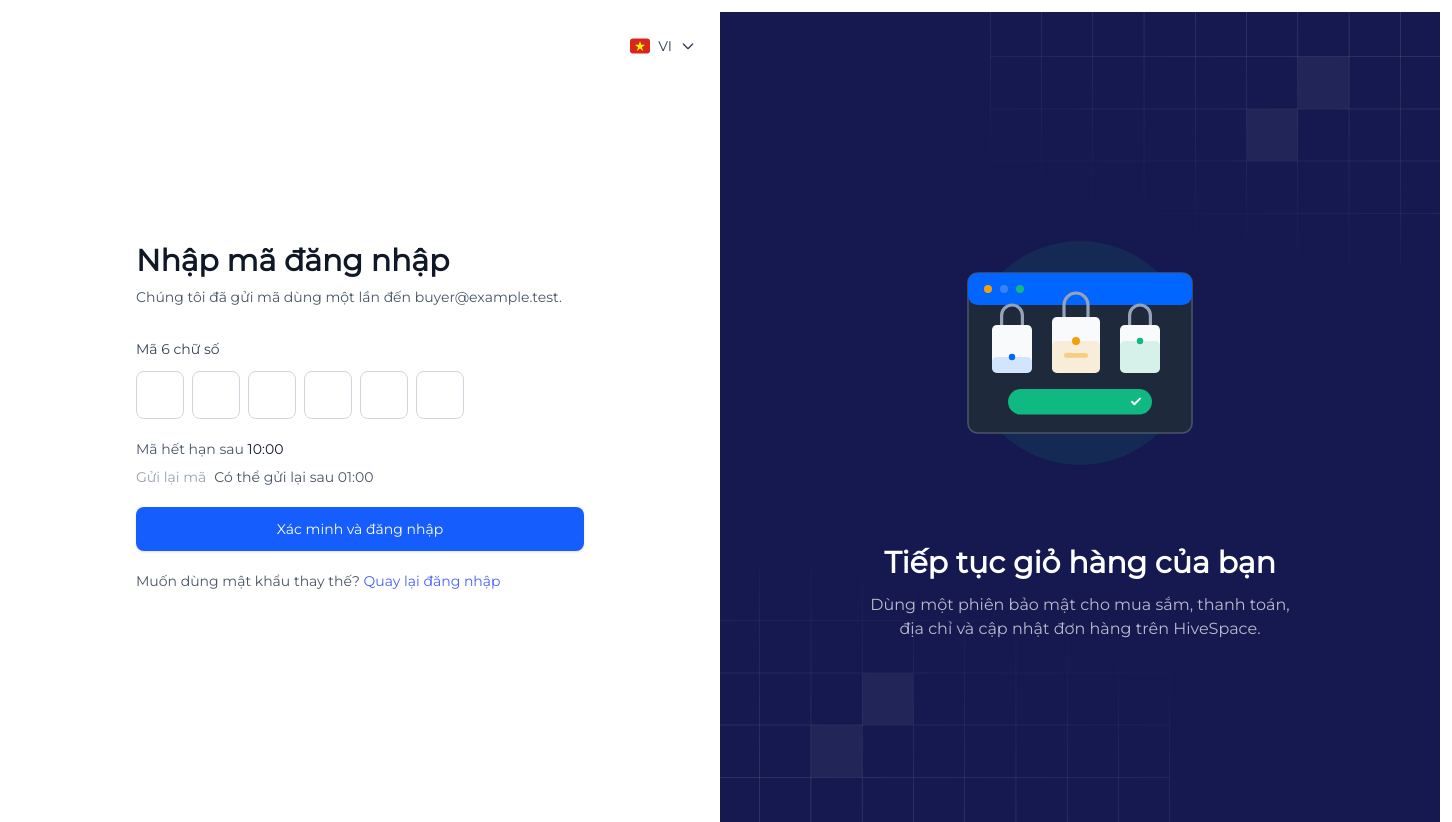
Scenario: OtpCodeEntryPage (buyer) › shows invalid code feedback and does not redirect when verification fails
The image size is (1452, 822).
In the field named "Chữ số 1": (160, 395) [136,371,184,419], type "1"
In the field named "Chữ số 2": (216, 395) [192,371,240,419], type "2"
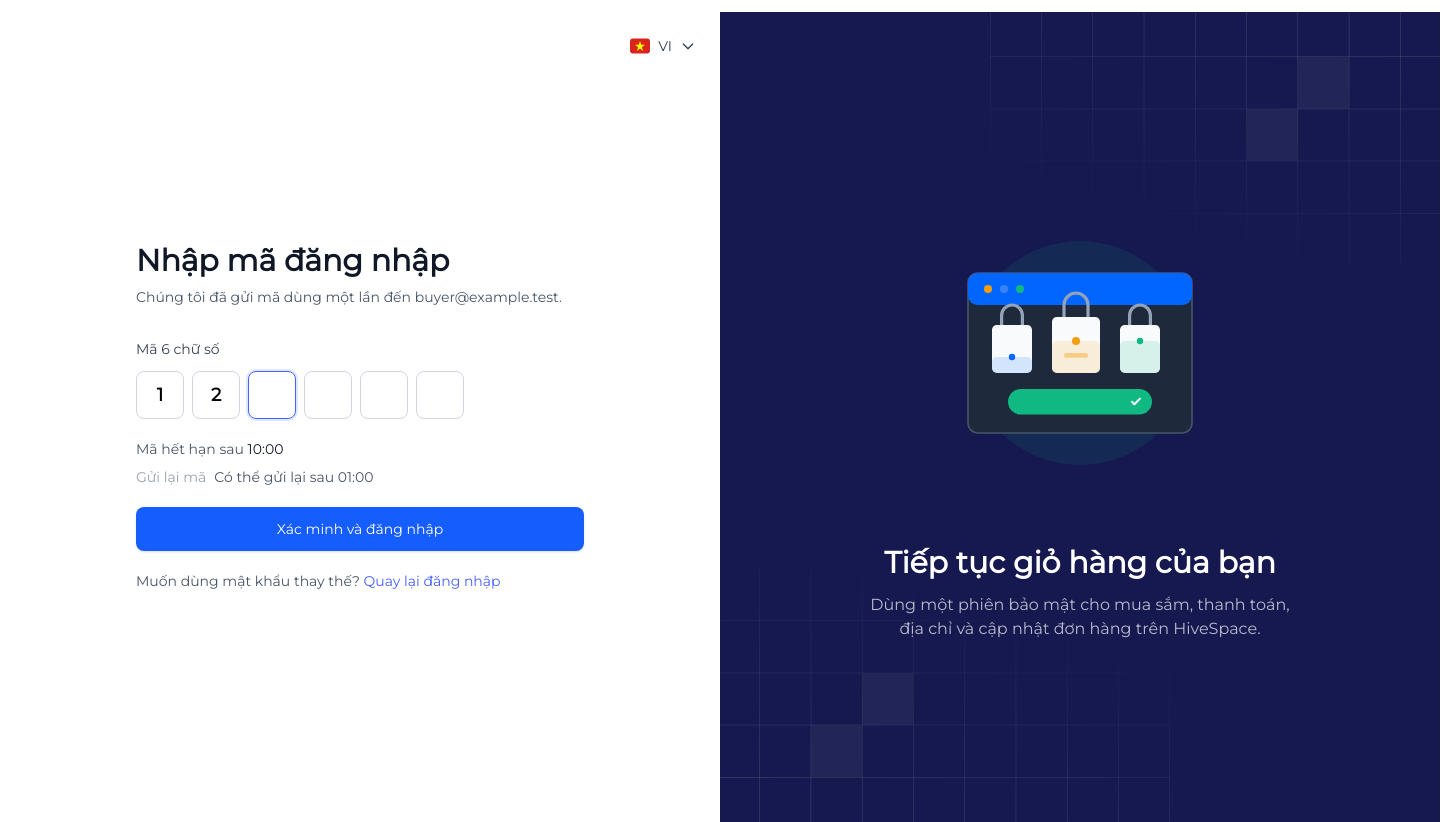
In the field named "Chữ số 3": (272, 395) [248,371,296,419], type "3"
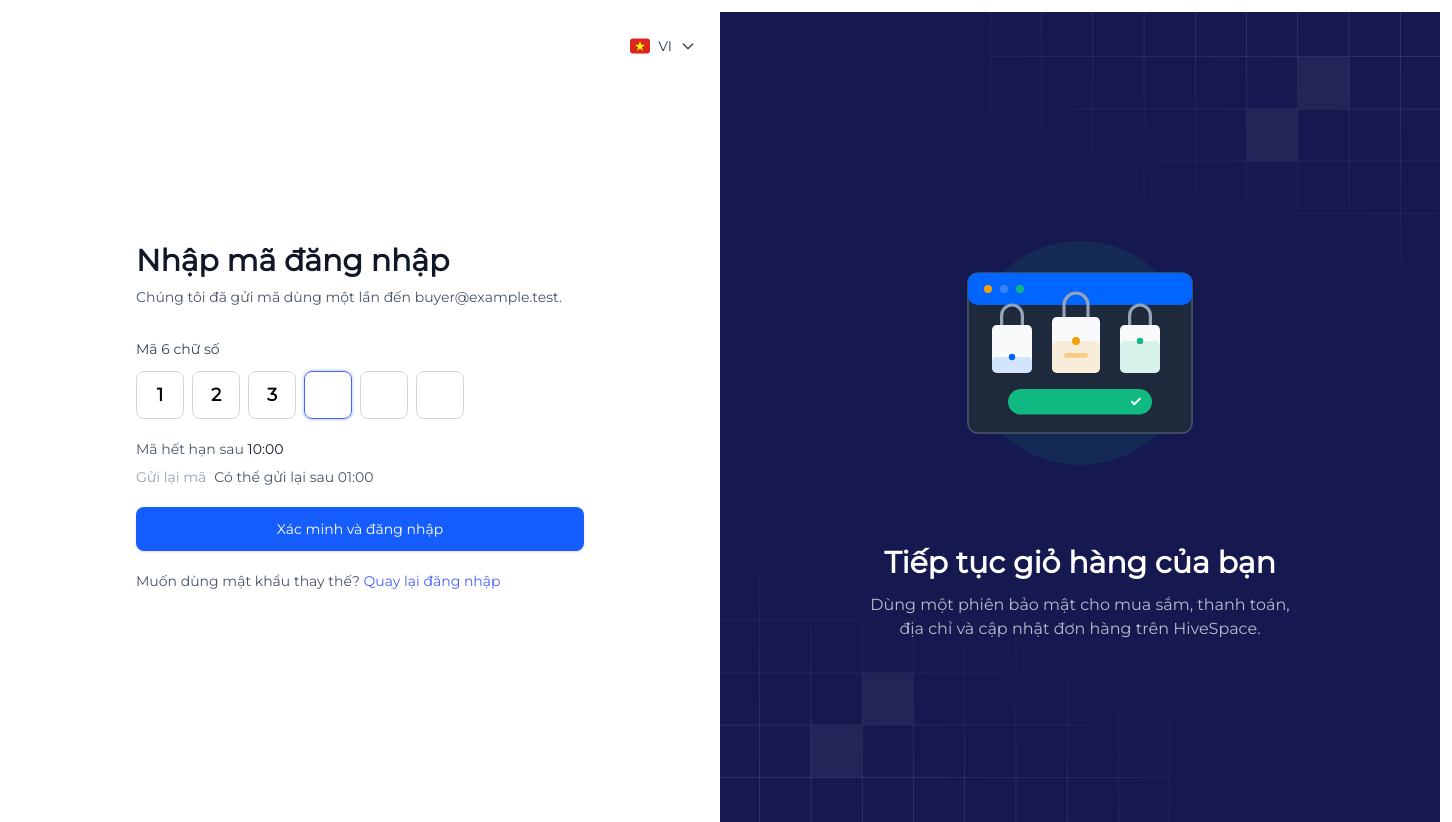
In the field named "Chữ số 4": (328, 395) [304,371,352,419], type "4"
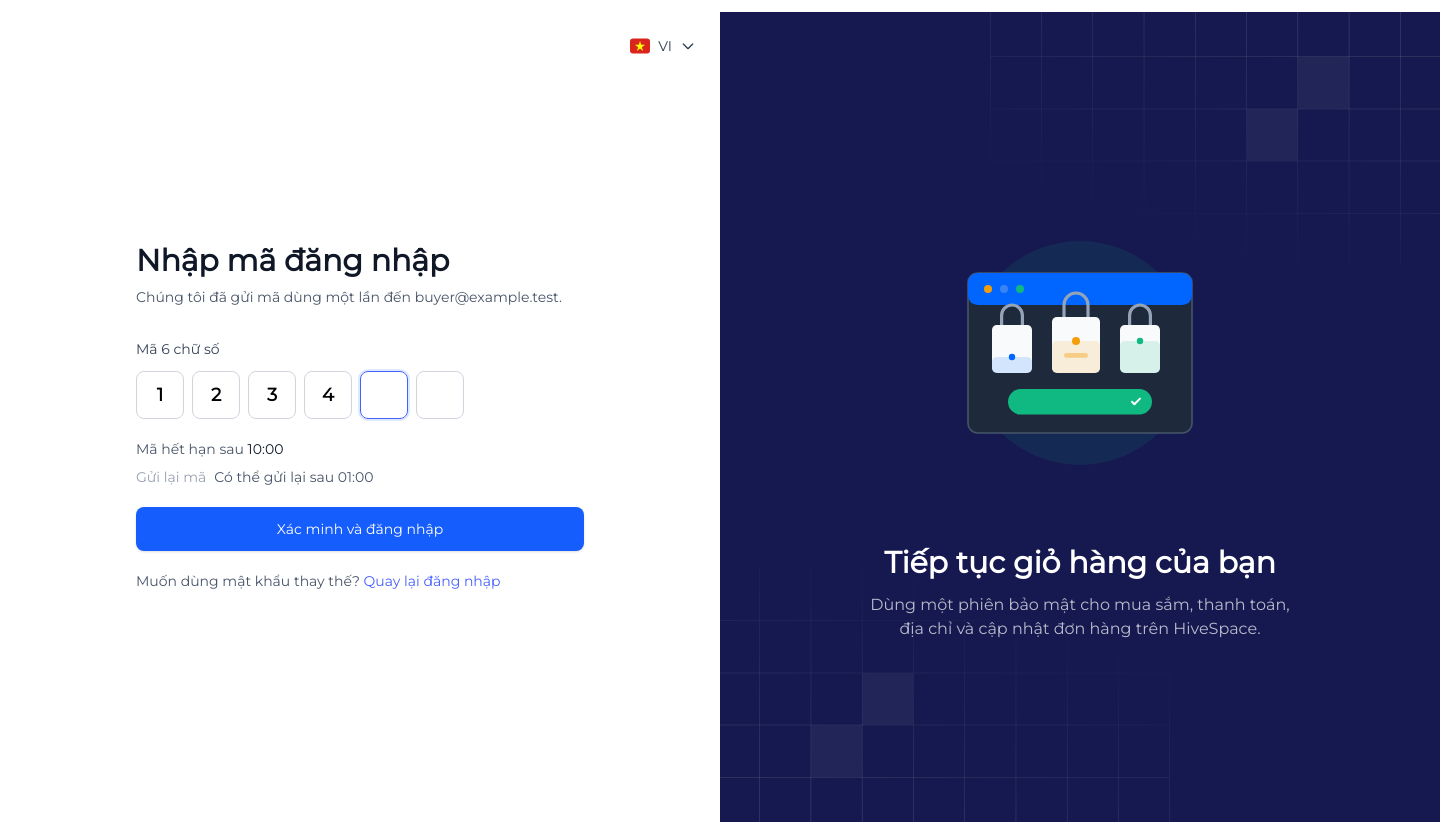
In the field named "Chữ số 5": (384, 395) [360,371,408,419], type "5"
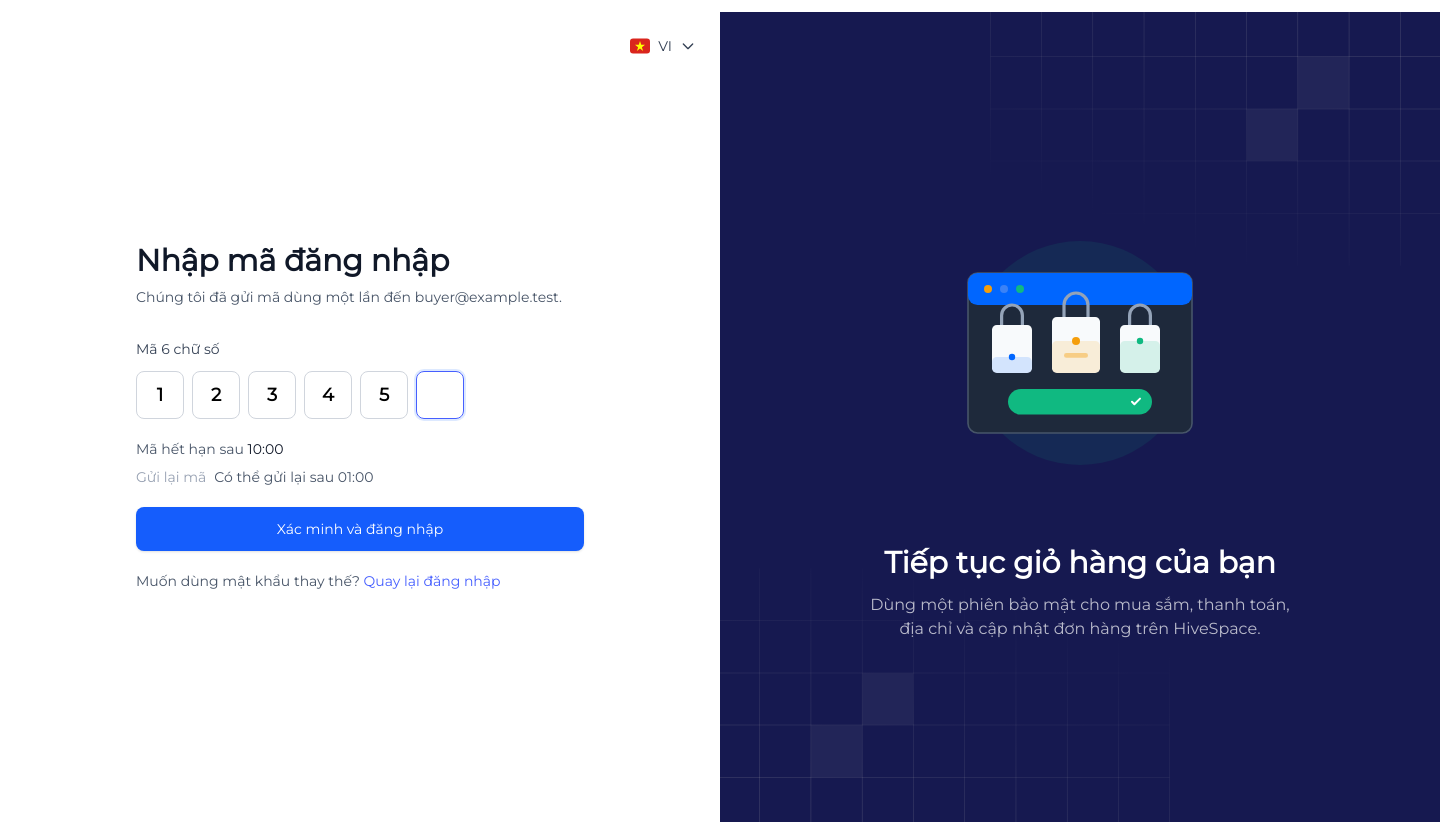
In the field named "Chữ số 6": (440, 395) [416,371,464,419], type "6"
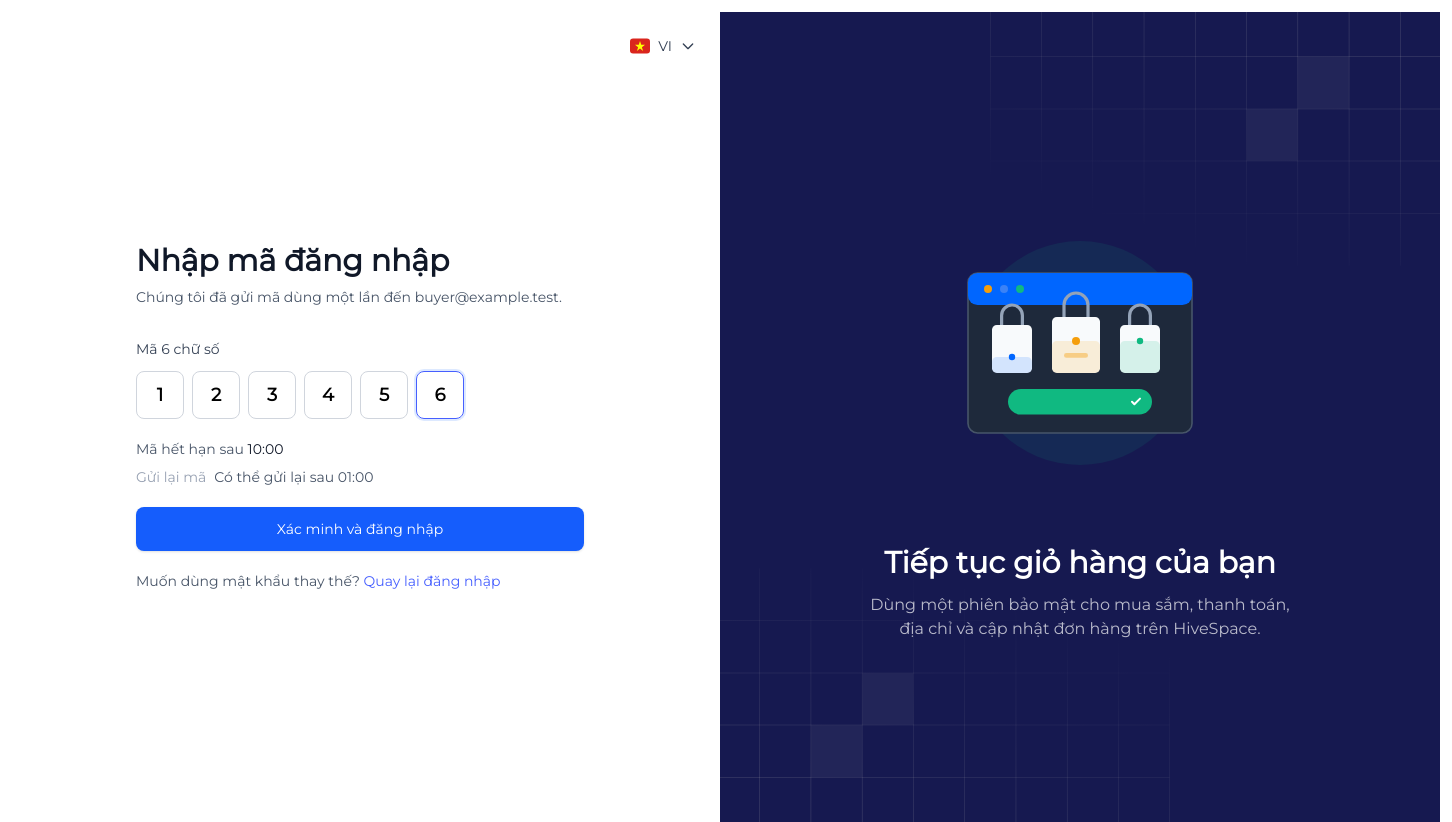
Submit the form named "Xác minh và đăng nhập", box [136,339,584,551]
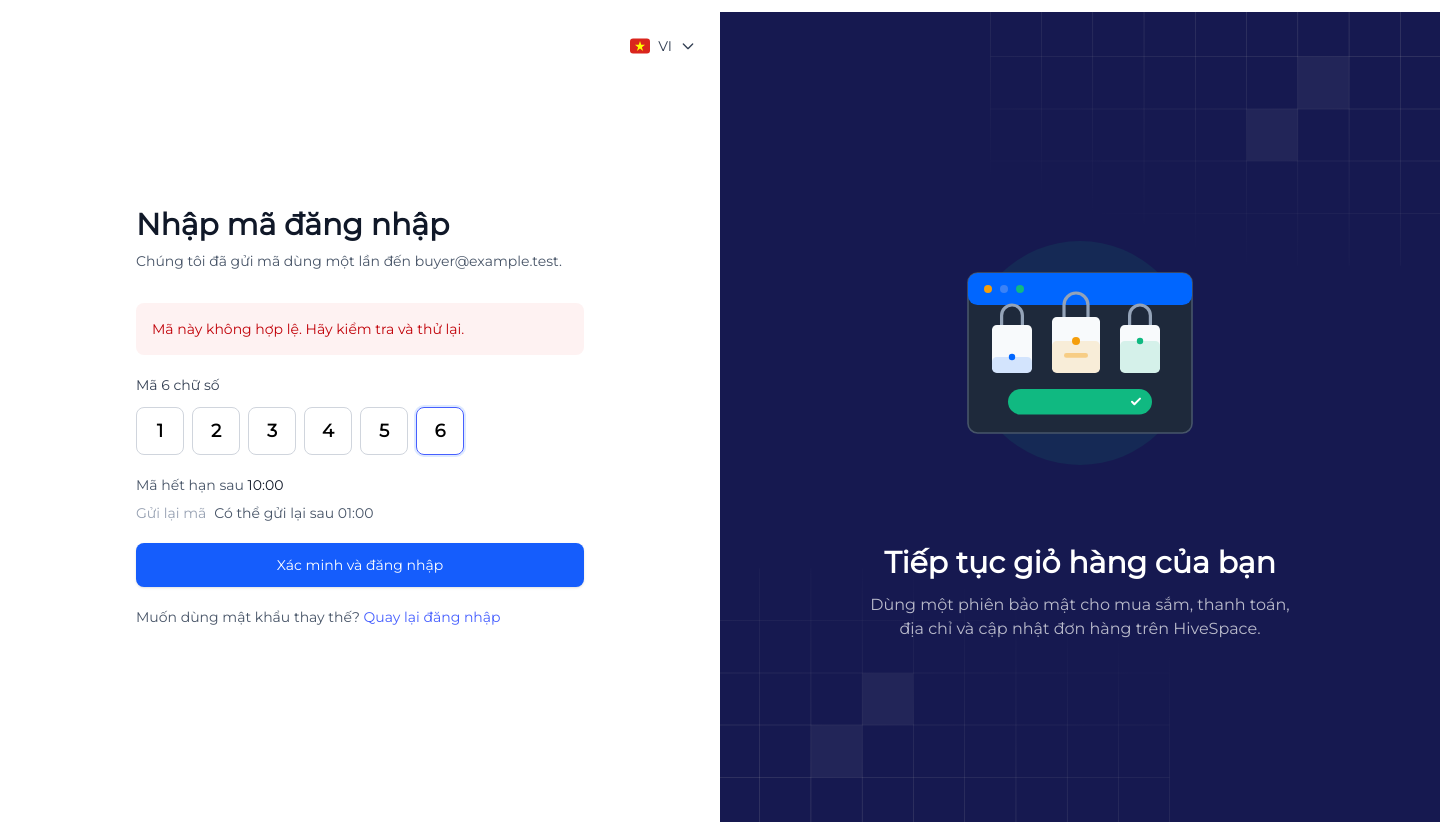
Check: the text "Mã này không hợp lệ. Hãy kiểm tra và thử lại." is shown, box [152,320,464,338]
